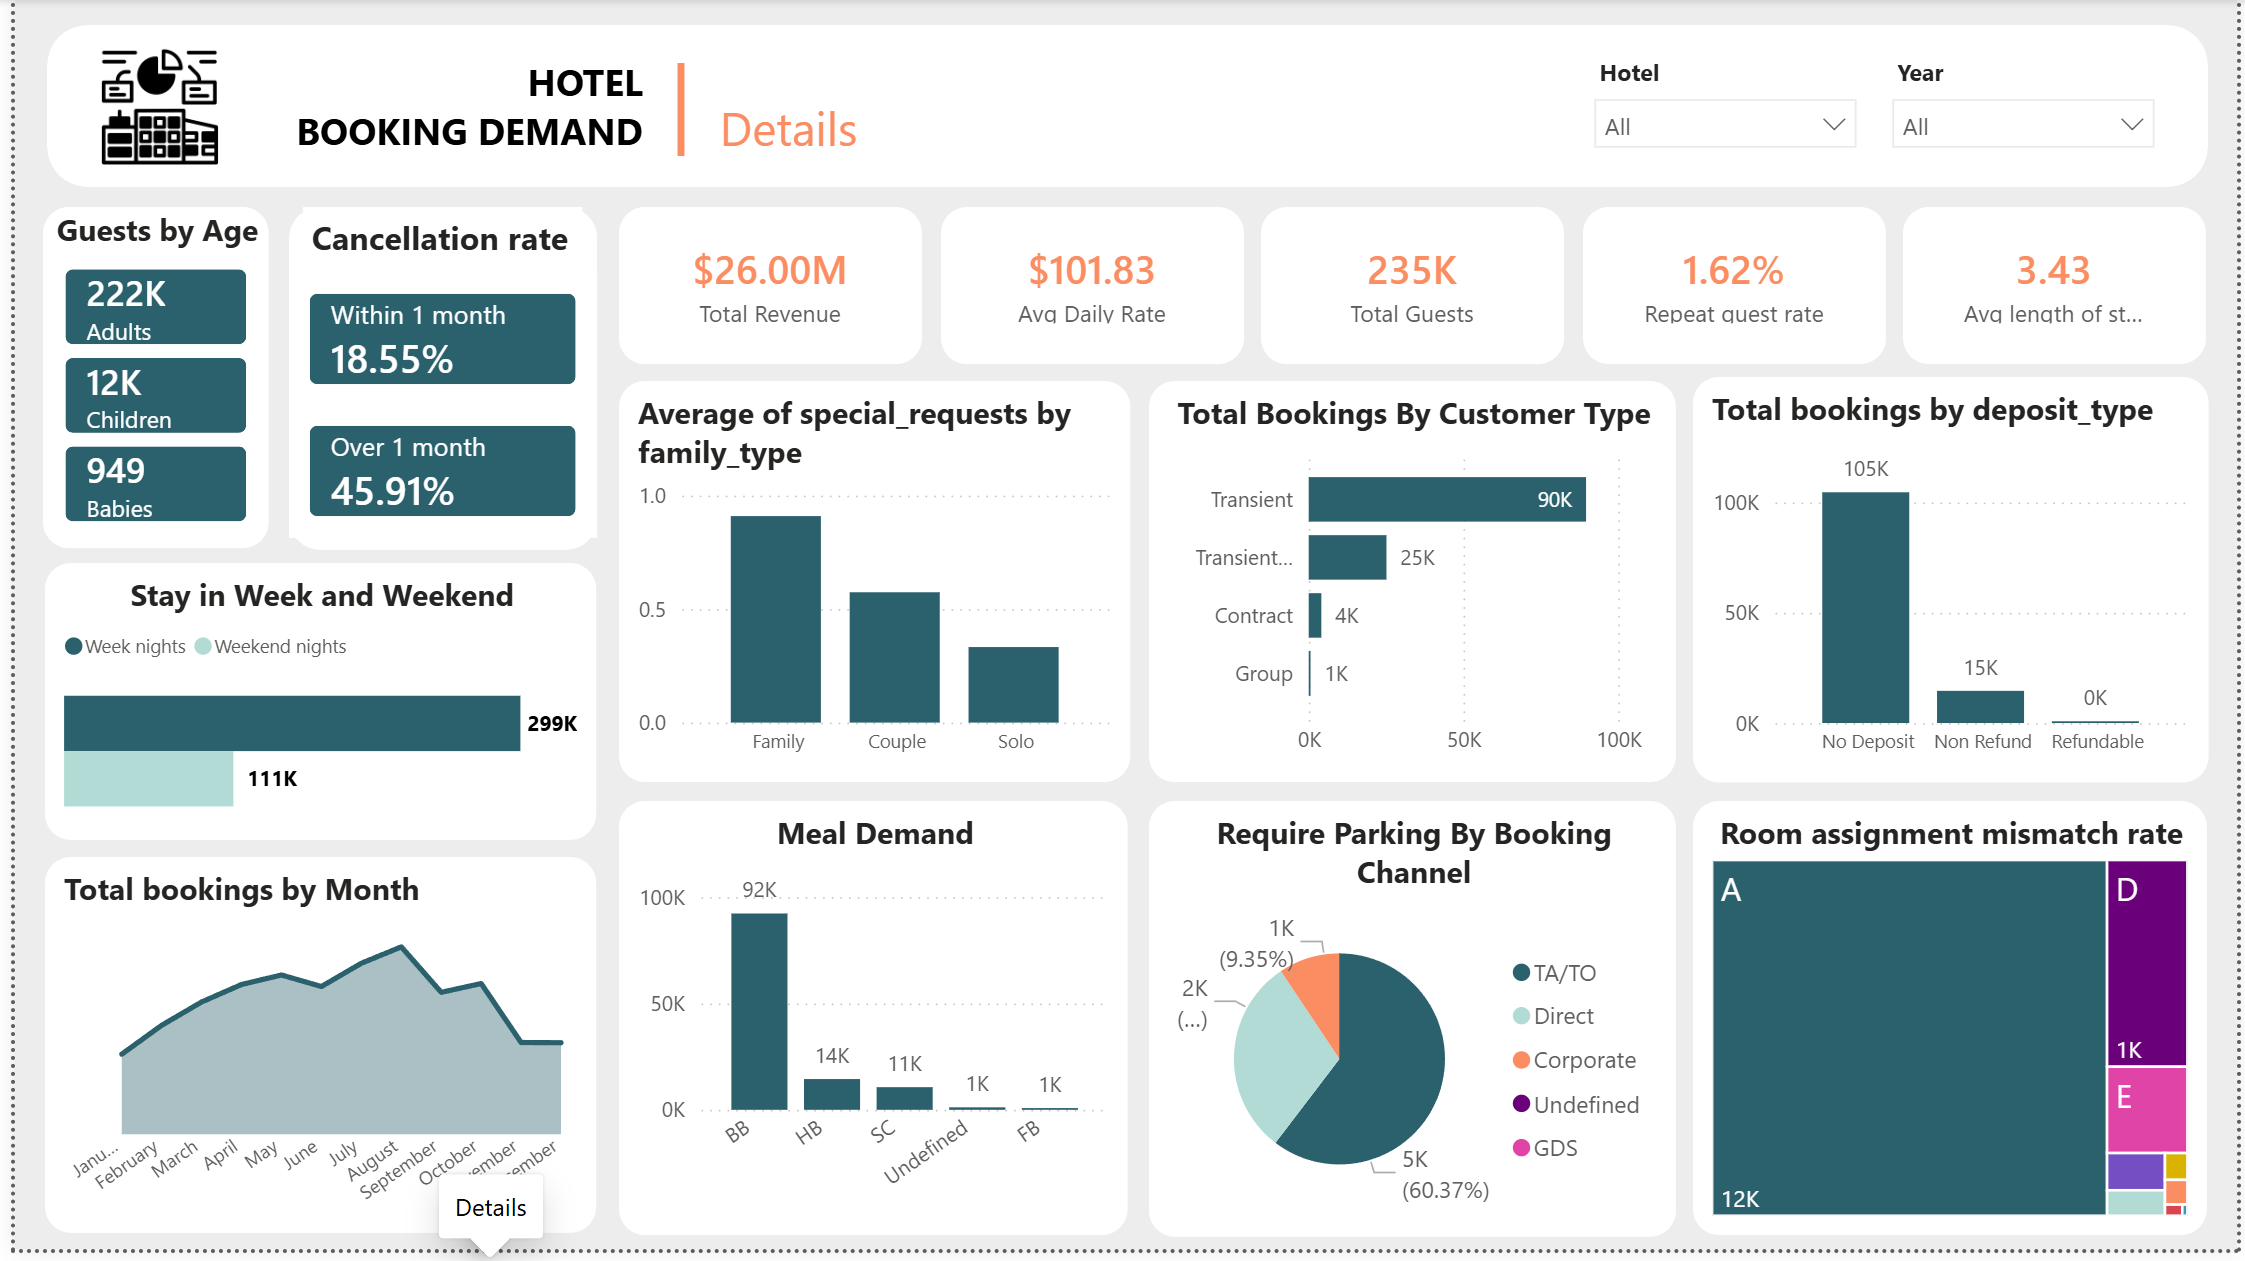

The page's visual inventory and layout, read from the dashboard file:
{"tool":"powerbi","page":{"name":"Details","canvas":[1280,720],"ordinal":1},"visuals":[{"type":"shape","box":[18.4,15.3,1244.8,93.4],"z":0},{"type":"textbox","box":[401.2,50.5,131.7,47.5],"z":0,"group":"g1"},{"type":"textbox","box":[372.1,15.3,29.1,82.7],"z":1000,"group":"g1"},{"type":"textbox","box":[147,27.6,225.1,72],"z":1000},{"type":"image","box":[41.3,27.6,84.2,68.9],"z":2000},{"type":"group","id":"g1","title":"Group 1","box":[372.1,15.3,160.8,82.7],"z":3000},{"type":"cardVisual","fields":{"Data":["FactBookings.Total Guests"]},"box":[717.8,119.8,174.7,90.5],"z":4000},{"type":"slicer","fields":{"Values":["DimHotel.hotel"]},"box":[899.4,27.4,170.8,68.8],"z":5000},{"type":"slicer","fields":{"Values":["DimDate.arrival_date.Variation.Date Hierarchy.Year"]},"box":[1071.6,27.4,170.8,68.8],"z":6000},{"type":"cardVisual","fields":{"Data":["FactBookings.Average length of stay"]},"box":[1087.5,119.8,174.7,90.5],"z":7000},{"type":"cardVisual","fields":{"Data":["FactBookings.Repeat guest rate"]},"box":[902.6,119.8,174.7,90.5],"z":8000},{"type":"cardVisual","fields":{"Data":["Avg(FactBookings.adr)"]},"box":[532.9,119.8,174.7,90.5],"z":9000},{"type":"cardVisual","fields":{"Data":["FactBookings.Total Revenue"]},"box":[348,119.8,174.7,90.5],"z":10000},{"type":"cardVisual","title":"Guests by Age","fields":{"Data":["Sum(FactBookings.adults)","Sum(FactBookings.children)","Sum(FactBookings.babies)"]},"box":[16.6,119.8,130,196.3],"z":11000},{"type":"pieChart","title":"Require Parking By Booking Channel","fields":{"Y":["Sum(FactBookings.required_car_parking_spaces)"],"Category":["DimMarket.distribution_channel"]},"box":[652.7,461.5,303.4,251.2],"z":12000},{"type":"columnChart","title":"Meal Demand","fields":{"Y":["FactBookings.Total bookings"],"Category":["DimBookingInfo.meal"]},"box":[348,461.5,293.2,249.9],"z":13000},{"type":"barChart","title":"Total Bookings By Customer Type","fields":{"Category":["DimBookingInfo.customer_type"],"Y":["FactBookings.Total bookings"]},"box":[652.7,220.6,303.4,230.8],"z":14000},{"type":"areaChart","fields":{"Category":["DimDate.arrival_date.Variation.Date Hierarchy.Month"],"Y":["FactBookings.Total bookings"]},"box":[17.8,494.7,317.5,216.7],"z":15000},{"type":"treemap","title":"Room assignment mismatch rate","fields":{"Group":["FactBookings.reserved_room_type"],"Values":["FactBookings.Room change"]},"box":[966.4,461.5,295.8,249.9],"z":16000},{"type":"clusteredBarChart","title":"Stay in Week and Weekend","fields":{"Y":["Sum(FactBookings.stays_in_week_nights)","Sum(FactBookings.stays_in_weekend_nights)"]},"box":[17.8,325.1,317.5,159.4],"z":17000},{"type":"columnChart","fields":{"Y":["FactBookings.Total bookings"],"Category":["DimBookingInfo.deposit_type"]},"box":[966.4,218,297.1,233.3],"z":18000},{"type":"shape","box":[157.7,119.4,177.6,197.5],"z":19000},{"type":"cardVisual","fields":{"Data":["FactBookings.Cancellation Rate"]},"box":[157.7,157.7,177.6,76.6],"z":20000},{"type":"cardVisual","fields":{"Data":["FactBookings.Cancellation Rate"]},"box":[157.7,234.3,177.6,76.6],"z":21000},{"type":"textbox","box":[165.4,119.4,160.8,38.3],"z":22000},{"type":"columnChart","fields":{"Category":["FactBookings.family_type"],"Y":["Avg(FactBookings.total_of_special_requests)"]},"box":[348,220.6,294.5,230.8],"z":23000}]}

Visuals, with their boxes in screenshot pixels (x1, y1, x2, y2), scaled from the page's 1280x720 canvas onto the 2245x1261 screenshot:
shape: {"left": 32, "top": 27, "right": 2216, "bottom": 190}
textbox: {"left": 704, "top": 88, "right": 935, "bottom": 172}
textbox: {"left": 653, "top": 27, "right": 704, "bottom": 172}
textbox: {"left": 258, "top": 48, "right": 653, "bottom": 174}
image: {"left": 72, "top": 48, "right": 220, "bottom": 169}
"Group 1" group: {"left": 653, "top": 27, "right": 935, "bottom": 172}
cardVisual - FactBookings.Total Guests: {"left": 1259, "top": 210, "right": 1565, "bottom": 368}
slicer - DimHotel.hotel: {"left": 1577, "top": 48, "right": 1877, "bottom": 168}
slicer - DimDate.arrival_date.Variation.Date Hierarchy.Year: {"left": 1879, "top": 48, "right": 2179, "bottom": 168}
cardVisual - FactBookings.Average length of stay: {"left": 1907, "top": 210, "right": 2214, "bottom": 368}
cardVisual - FactBookings.Repeat guest rate: {"left": 1583, "top": 210, "right": 1889, "bottom": 368}
cardVisual - Avg(FactBookings.adr): {"left": 935, "top": 210, "right": 1241, "bottom": 368}
cardVisual - FactBookings.Total Revenue: {"left": 610, "top": 210, "right": 917, "bottom": 368}
"Guests by Age" cardVisual: {"left": 29, "top": 210, "right": 257, "bottom": 554}
"Require Parking By Booking Channel" pieChart: {"left": 1145, "top": 808, "right": 1677, "bottom": 1248}
"Meal Demand" columnChart: {"left": 610, "top": 808, "right": 1125, "bottom": 1246}
"Total Bookings By Customer Type" barChart: {"left": 1145, "top": 386, "right": 1677, "bottom": 791}
areaChart - DimDate.arrival_date.Variation.Date Hierarchy.Month x FactBookings.Total bookings: {"left": 31, "top": 866, "right": 588, "bottom": 1246}
"Room assignment mismatch rate" treemap: {"left": 1695, "top": 808, "right": 2214, "bottom": 1246}
"Stay in Week and Weekend" clusteredBarChart: {"left": 31, "top": 569, "right": 588, "bottom": 849}
columnChart - FactBookings.Total bookings x DimBookingInfo.deposit_type: {"left": 1695, "top": 382, "right": 2216, "bottom": 790}
shape: {"left": 277, "top": 209, "right": 588, "bottom": 555}
cardVisual - FactBookings.Cancellation Rate: {"left": 277, "top": 276, "right": 588, "bottom": 410}
cardVisual - FactBookings.Cancellation Rate: {"left": 277, "top": 410, "right": 588, "bottom": 545}
textbox: {"left": 290, "top": 209, "right": 572, "bottom": 276}
columnChart - FactBookings.family_type x Avg(FactBookings.total_of_special_requests): {"left": 610, "top": 386, "right": 1127, "bottom": 791}
